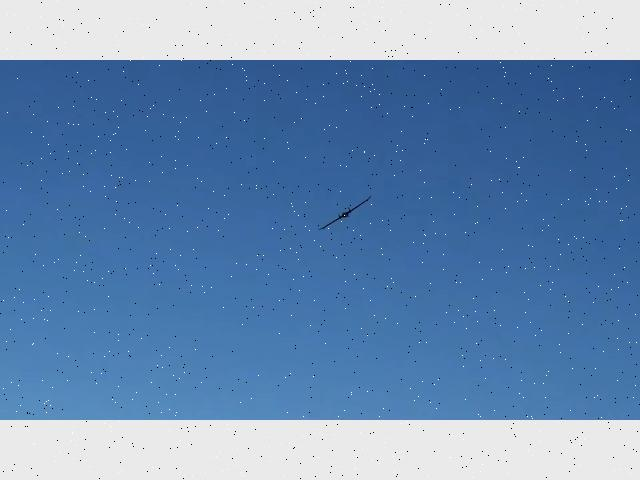Anti-Drone: (311, 182, 379, 242)
